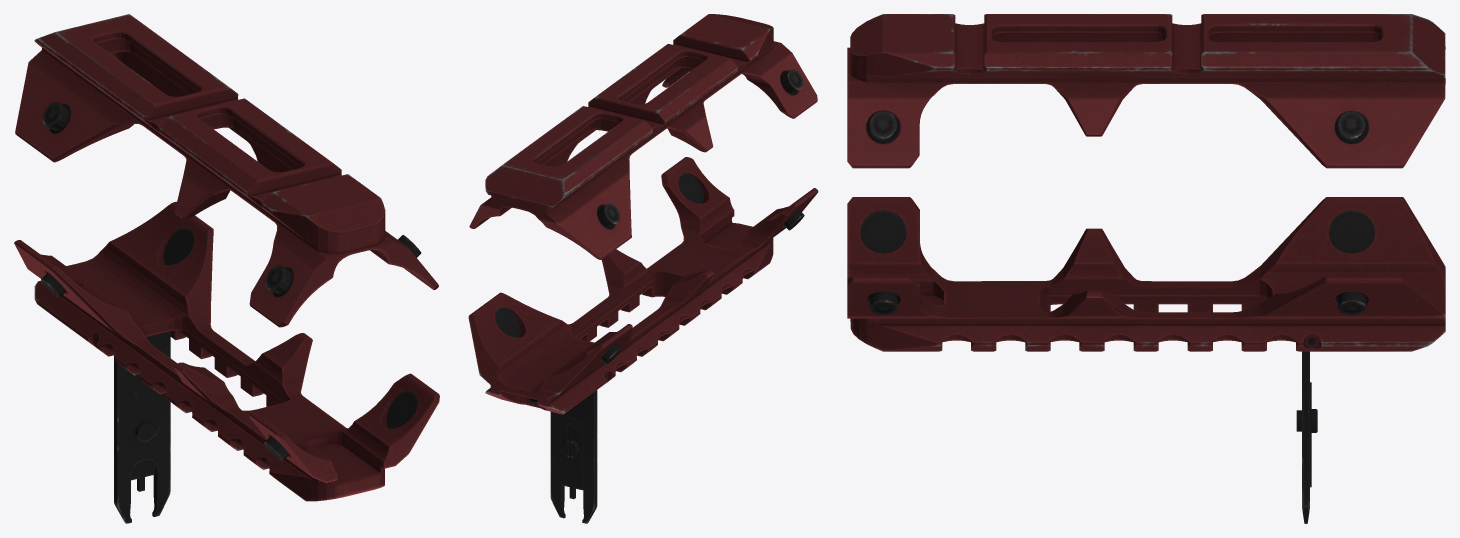
3 renders of one model, left to right at view 1: azimuth 30°, elevation 25°; view 2: azimuth 150°, elevation 25°; view 3: azimuth 270°, elevation 25°, orthographic. The views are drawn at different scales.
Parts seen in each view (by area): view 1: TW_68a6ff952885e0bbd30bb6fd_PZ_Import; view 2: TW_68a6ff952885e0bbd30bb6fd_PZ_Import; view 3: TW_68a6ff952885e0bbd30bb6fd_PZ_Import.
Boxes of the visible parts, <box> form: TW_68a6ff952885e0bbd30bb6fd_PZ_Import: <box>14,14,439,523</box>; TW_68a6ff952885e0bbd30bb6fd_PZ_Import: <box>468,14,818,523</box>; TW_68a6ff952885e0bbd30bb6fd_PZ_Import: <box>847,14,1445,523</box>.
Size of the model in its own units: 0.021 by 0.0639 by 0.0568.
1 material, 1 textured.
